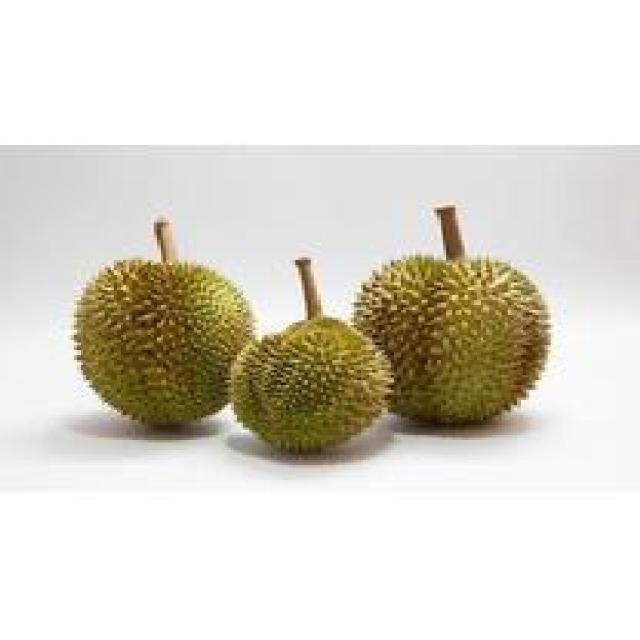fruit: (332, 233, 566, 455), (52, 238, 271, 450), (212, 298, 406, 480)
